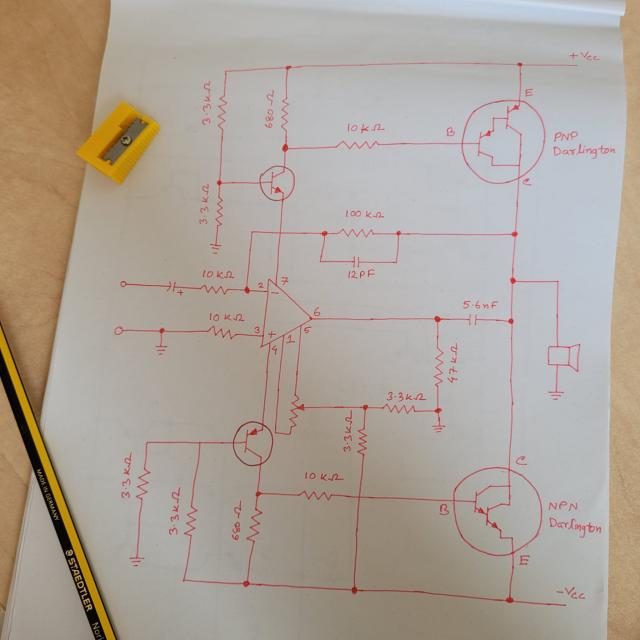capacitor: (164, 278, 183, 296), (348, 252, 362, 270), (466, 312, 480, 328)
crossover: (354, 493, 363, 501), (276, 228, 284, 236)
ground: (128, 555, 145, 567), (546, 390, 564, 401), (153, 344, 169, 356), (209, 242, 222, 255), (430, 424, 448, 433)
junction: (240, 578, 252, 588), (280, 142, 290, 153), (432, 314, 442, 324), (508, 275, 518, 285), (509, 229, 519, 239), (349, 585, 359, 595), (504, 595, 514, 605), (242, 284, 252, 294), (214, 177, 224, 187), (506, 316, 515, 326), (283, 62, 292, 72), (360, 402, 369, 412), (254, 488, 263, 498), (432, 406, 442, 415), (515, 60, 524, 69), (320, 228, 328, 238), (157, 326, 166, 334), (394, 229, 402, 237), (195, 438, 203, 446), (142, 438, 150, 446), (248, 228, 256, 235), (222, 68, 230, 75), (286, 430, 293, 438), (316, 258, 324, 264), (554, 278, 561, 284), (392, 259, 399, 265), (180, 578, 187, 582), (273, 429, 277, 436)
resistor: (286, 390, 308, 432), (246, 506, 263, 544), (334, 137, 380, 151), (134, 466, 151, 502), (278, 93, 291, 133), (215, 92, 228, 131), (298, 488, 334, 502), (183, 505, 199, 536), (206, 325, 238, 340), (432, 346, 444, 386), (338, 226, 376, 238), (382, 403, 418, 415), (213, 191, 225, 227), (200, 282, 230, 296), (355, 425, 368, 456)
terminal: (113, 325, 124, 336), (119, 279, 128, 288), (560, 601, 567, 610), (572, 63, 578, 68)
text: (547, 515, 603, 539), (550, 143, 616, 159), (167, 485, 182, 536), (119, 452, 133, 499), (262, 89, 276, 130), (200, 79, 212, 126), (230, 499, 243, 542), (343, 207, 385, 220), (555, 584, 586, 601), (304, 470, 344, 483), (198, 182, 210, 225), (447, 342, 459, 384), (342, 411, 354, 453), (344, 122, 386, 134), (386, 390, 426, 402), (208, 310, 244, 323), (547, 498, 579, 512), (463, 298, 499, 310), (200, 268, 235, 280), (553, 128, 580, 142), (569, 50, 599, 62), (346, 268, 376, 280), (518, 553, 531, 566), (516, 454, 528, 468), (438, 502, 449, 516), (444, 125, 455, 137), (280, 274, 290, 286), (312, 306, 322, 317), (255, 280, 265, 291), (252, 324, 262, 334), (285, 334, 295, 344), (302, 324, 312, 334), (521, 176, 531, 186), (524, 85, 532, 97), (270, 344, 278, 354)
transistor: (450, 460, 546, 559), (457, 98, 545, 184), (230, 419, 274, 467), (255, 163, 297, 203)
